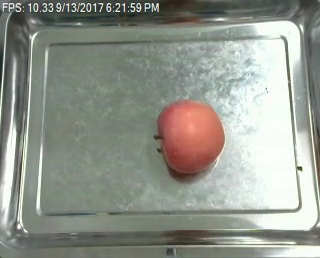Apple: (155, 96, 225, 178)
